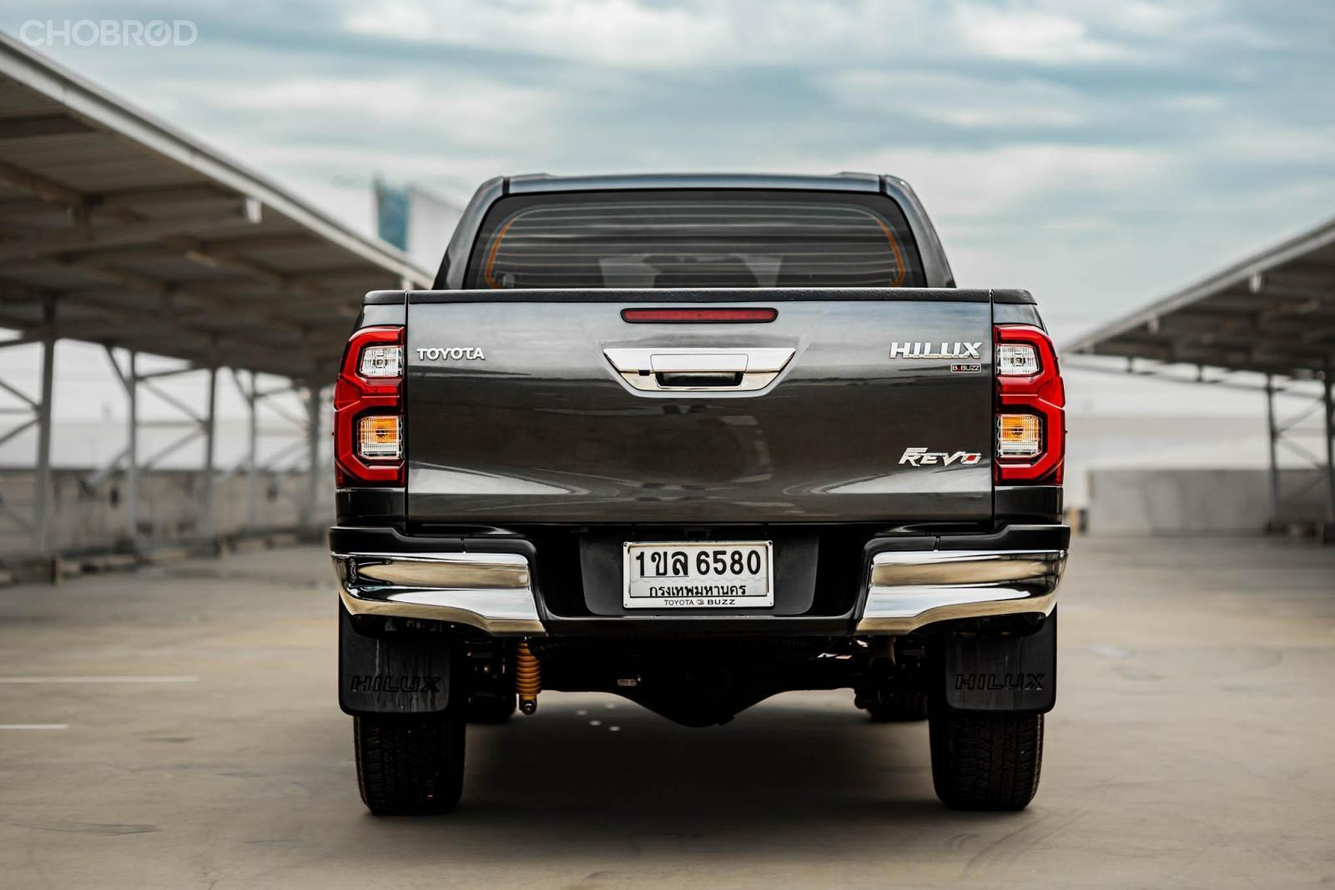license-plate: (615, 527, 777, 629)
